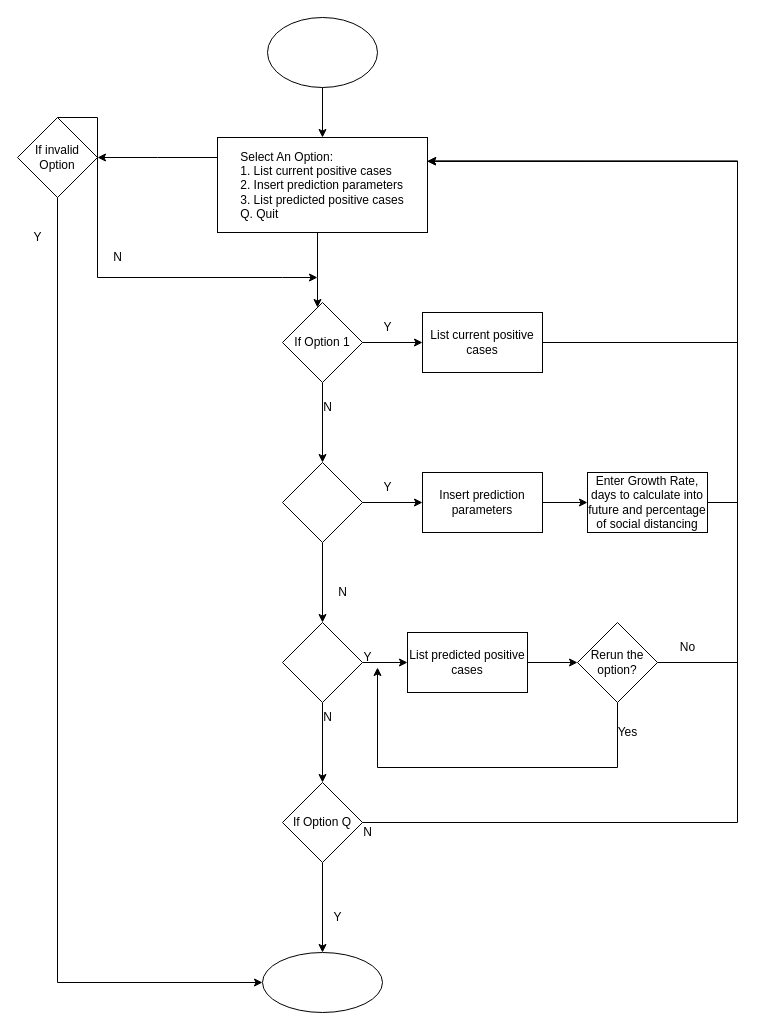
This 763x1030 diagram has some shape labels left out. The shapes that lost their labels are listed below. From the top down, each one's centre as x and y in pixels, then its label:
At [322,52]: "Start".
At [322,502]: "If Option 2".
At [322,662]: "If Option 3".
At [322,982]: "End Program".
